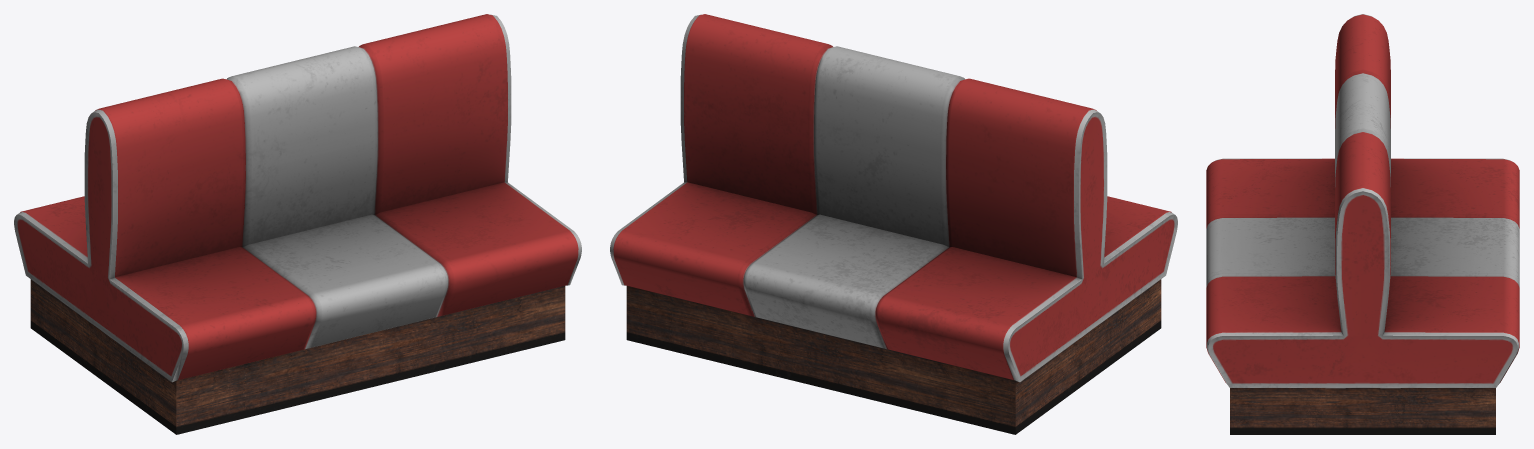
The model's file is Diner Bench 1.fbx.
3 renders of one model, left to right at view 1: azimuth 30°, elevation 25°; view 2: azimuth 150°, elevation 25°; view 3: azimuth 270°, elevation 25°, orthographic. The views are drawn at different scales.
Parts seen in each view (by area): view 1: Diner_Bench_1; view 2: Diner_Bench_1; view 3: Diner_Bench_1.
Part boxes in pixels (box(x1,y1,x2,y2)): Diner_Bench_1: box(14, 14, 581, 434); Diner_Bench_1: box(610, 14, 1177, 434); Diner_Bench_1: box(1206, 14, 1519, 434).
Size of the model in its own units: 175 by 114 by 131.
Materials: 1 (1 with a texture image).
